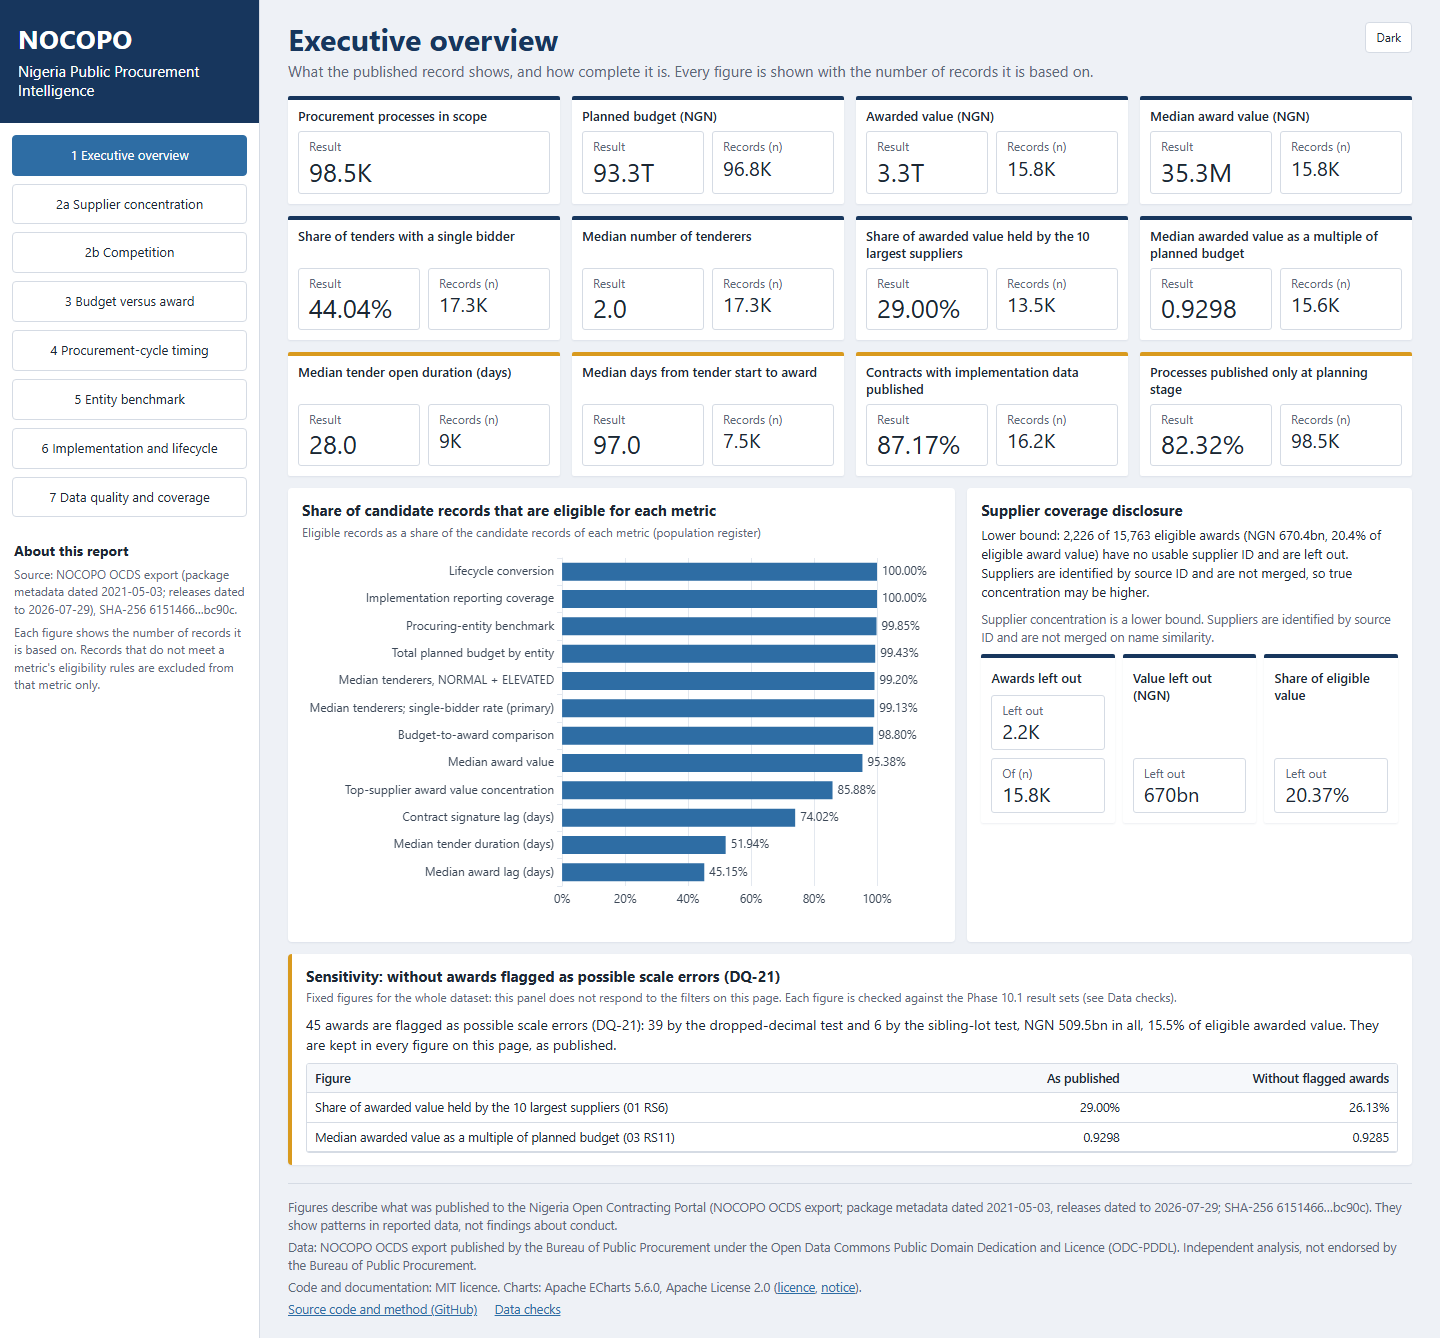

What the dashboard file says about the page in this screenshot:
{"tool":"powerbi","page":{"name":"1 Executive overview","canvas":[1920,1080],"ordinal":0},"visuals":[{"type":"textbox","box":[0,0,280,190],"z":0},{"type":"textbox","box":[0,190,280,890],"z":1},{"type":"textbox","box":[20,18,250,150],"z":2},{"type":"pageNavigator","box":[12,205,256,480],"z":3},{"type":"textbox","box":[12,700,256,360],"z":4},{"type":"textbox","box":[310,15,1580,80],"z":5},{"type":"textbox","box":[310,995,1580,70],"z":6},{"type":"textbox","box":[310,105,380,6],"z":7},{"type":"cardVisual","title":"Procurement processes in scope","fields":{"Data":["_Measures.Processes (n)"]},"box":[310,111,380,144],"z":8},{"type":"textbox","box":[710,105,380,6],"z":9},{"type":"cardVisual","title":"Planned budget (NGN)","fields":{"Data":["_Measures.Planned Budget (NGN)","_Measures.Budget Lines (n)"]},"box":[710,111,380,144],"z":10},{"type":"textbox","box":[1110,105,380,6],"z":11},{"type":"cardVisual","title":"Awarded value (NGN)","fields":{"Data":["_Measures.Award Value (NGN)","_Measures.Eligible Awards (n)"]},"box":[1110,111,380,144],"z":12},{"type":"textbox","box":[1510,105,380,6],"z":13},{"type":"cardVisual","title":"Median award value (NGN)","fields":{"Data":["_Measures.Median Award Value (NGN)","_Measures.Eligible Awards (n)"]},"box":[1510,111,380,144],"z":14},{"type":"textbox","box":[310,270,380,6],"z":15},{"type":"cardVisual","title":"Share of tenders with a single bidder","fields":{"Data":["_Measures.Single-Bidder Rate (primary)","_Measures.Competition n (primary)"]},"box":[310,276,380,144],"z":16},{"type":"textbox","box":[710,270,380,6],"z":17},{"type":"cardVisual","title":"Median number of tenderers","fields":{"Data":["_Measures.Median Tenderers (primary)","_Measures.Competition n (primary)"]},"box":[710,276,380,144],"z":18},{"type":"textbox","box":[1110,270,380,6],"z":19},{"type":"cardVisual","title":"Share of awarded value held by the 10 largest suppliers","fields":{"Data":["_Measures.Top N Supplier Share","_Measures.M-S01 Eligible Awards"]},"box":[1110,276,380,144],"z":20},{"type":"textbox","box":[1510,270,380,6],"z":21},{"type":"cardVisual","title":"Median awarded value as a multiple of planned budget","fields":{"Data":["_Measures.Median Award-to-Budget Ratio","_Measures.Comparable OCIDs"]},"box":[1510,276,380,144],"z":22},{"type":"textbox","box":[310,435,380,6],"z":23},{"type":"cardVisual","title":"Median tender open duration (days)","fields":{"Data":["_Measures.Median Tender Duration (days)","_Measures.Tender Duration n"]},"box":[310,441,380,144],"z":24},{"type":"textbox","box":[710,435,380,6],"z":25},{"type":"cardVisual","title":"Median days from tender start to award","fields":{"Data":["_Measures.Median Award Lag (days)","_Measures.Award Lag n"]},"box":[710,441,380,144],"z":26},{"type":"textbox","box":[1110,435,380,6],"z":27},{"type":"cardVisual","title":"Contracts with implementation data published","fields":{"Data":["_Measures.Implementation Coverage Rate","_Measures.Contracts (n)"]},"box":[1110,441,380,144],"z":28},{"type":"textbox","box":[1510,435,380,6],"z":29},{"type":"cardVisual","title":"Processes published only at planning stage","fields":{"Data":["_Measures.Planning-Only Share","_Measures.Processes (n)"]},"box":[1510,441,380,144],"z":30},{"type":"clusteredBarChart","title":"Share of candidate records that are eligible for each metric","fields":{"Category":["MetricPopulation.metric_name"],"Y":["_Measures.Eligible Share"]},"box":[310,600,960,385],"z":31},{"type":"textbox","box":[1290,605,600,125],"z":32},{"type":"cardVisual","title":"Awards left out","fields":{"Data":["_Measures.M-S01 Excluded Awards","_Measures.Eligible Awards (n)"]},"box":[1290,745,190,235],"z":33},{"type":"cardVisual","title":"Value left out (NGN)","fields":{"Data":["_Measures.M-S01 Excluded Value (NGN)"]},"box":[1495,745,190,235],"z":34},{"type":"cardVisual","title":"Share of eligible value","fields":{"Data":["_Measures.M-S01 Excluded Value Share"]},"box":[1700,745,190,235],"z":35}]}

Visuals, with their boxes on the page's 1920x1080 design canvas (x1, y1, x2, y2). These are canvas units, not pixel positions in the 1440x1338 screenshot, which may show the page scaled, cropped or inside an application window:
textbox: 0, 0, 280, 190
textbox: 0, 190, 280, 1080
textbox: 20, 18, 270, 168
pageNavigator: 12, 205, 268, 685
textbox: 12, 700, 268, 1060
textbox: 310, 15, 1890, 95
textbox: 310, 995, 1890, 1065
textbox: 310, 105, 690, 111
"Procurement processes in scope" cardVisual: 310, 111, 690, 255
textbox: 710, 105, 1090, 111
"Planned budget (NGN)" cardVisual: 710, 111, 1090, 255
textbox: 1110, 105, 1490, 111
"Awarded value (NGN)" cardVisual: 1110, 111, 1490, 255
textbox: 1510, 105, 1890, 111
"Median award value (NGN)" cardVisual: 1510, 111, 1890, 255
textbox: 310, 270, 690, 276
"Share of tenders with a single bidder" cardVisual: 310, 276, 690, 420
textbox: 710, 270, 1090, 276
"Median number of tenderers" cardVisual: 710, 276, 1090, 420
textbox: 1110, 270, 1490, 276
"Share of awarded value held by the 10 largest suppliers" cardVisual: 1110, 276, 1490, 420
textbox: 1510, 270, 1890, 276
"Median awarded value as a multiple of planned budget" cardVisual: 1510, 276, 1890, 420
textbox: 310, 435, 690, 441
"Median tender open duration (days)" cardVisual: 310, 441, 690, 585
textbox: 710, 435, 1090, 441
"Median days from tender start to award" cardVisual: 710, 441, 1090, 585
textbox: 1110, 435, 1490, 441
"Contracts with implementation data published" cardVisual: 1110, 441, 1490, 585
textbox: 1510, 435, 1890, 441
"Processes published only at planning stage" cardVisual: 1510, 441, 1890, 585
"Share of candidate records that are eligible for each metric" clusteredBarChart: 310, 600, 1270, 985
textbox: 1290, 605, 1890, 730
"Awards left out" cardVisual: 1290, 745, 1480, 980
"Value left out (NGN)" cardVisual: 1495, 745, 1685, 980
"Share of eligible value" cardVisual: 1700, 745, 1890, 980
